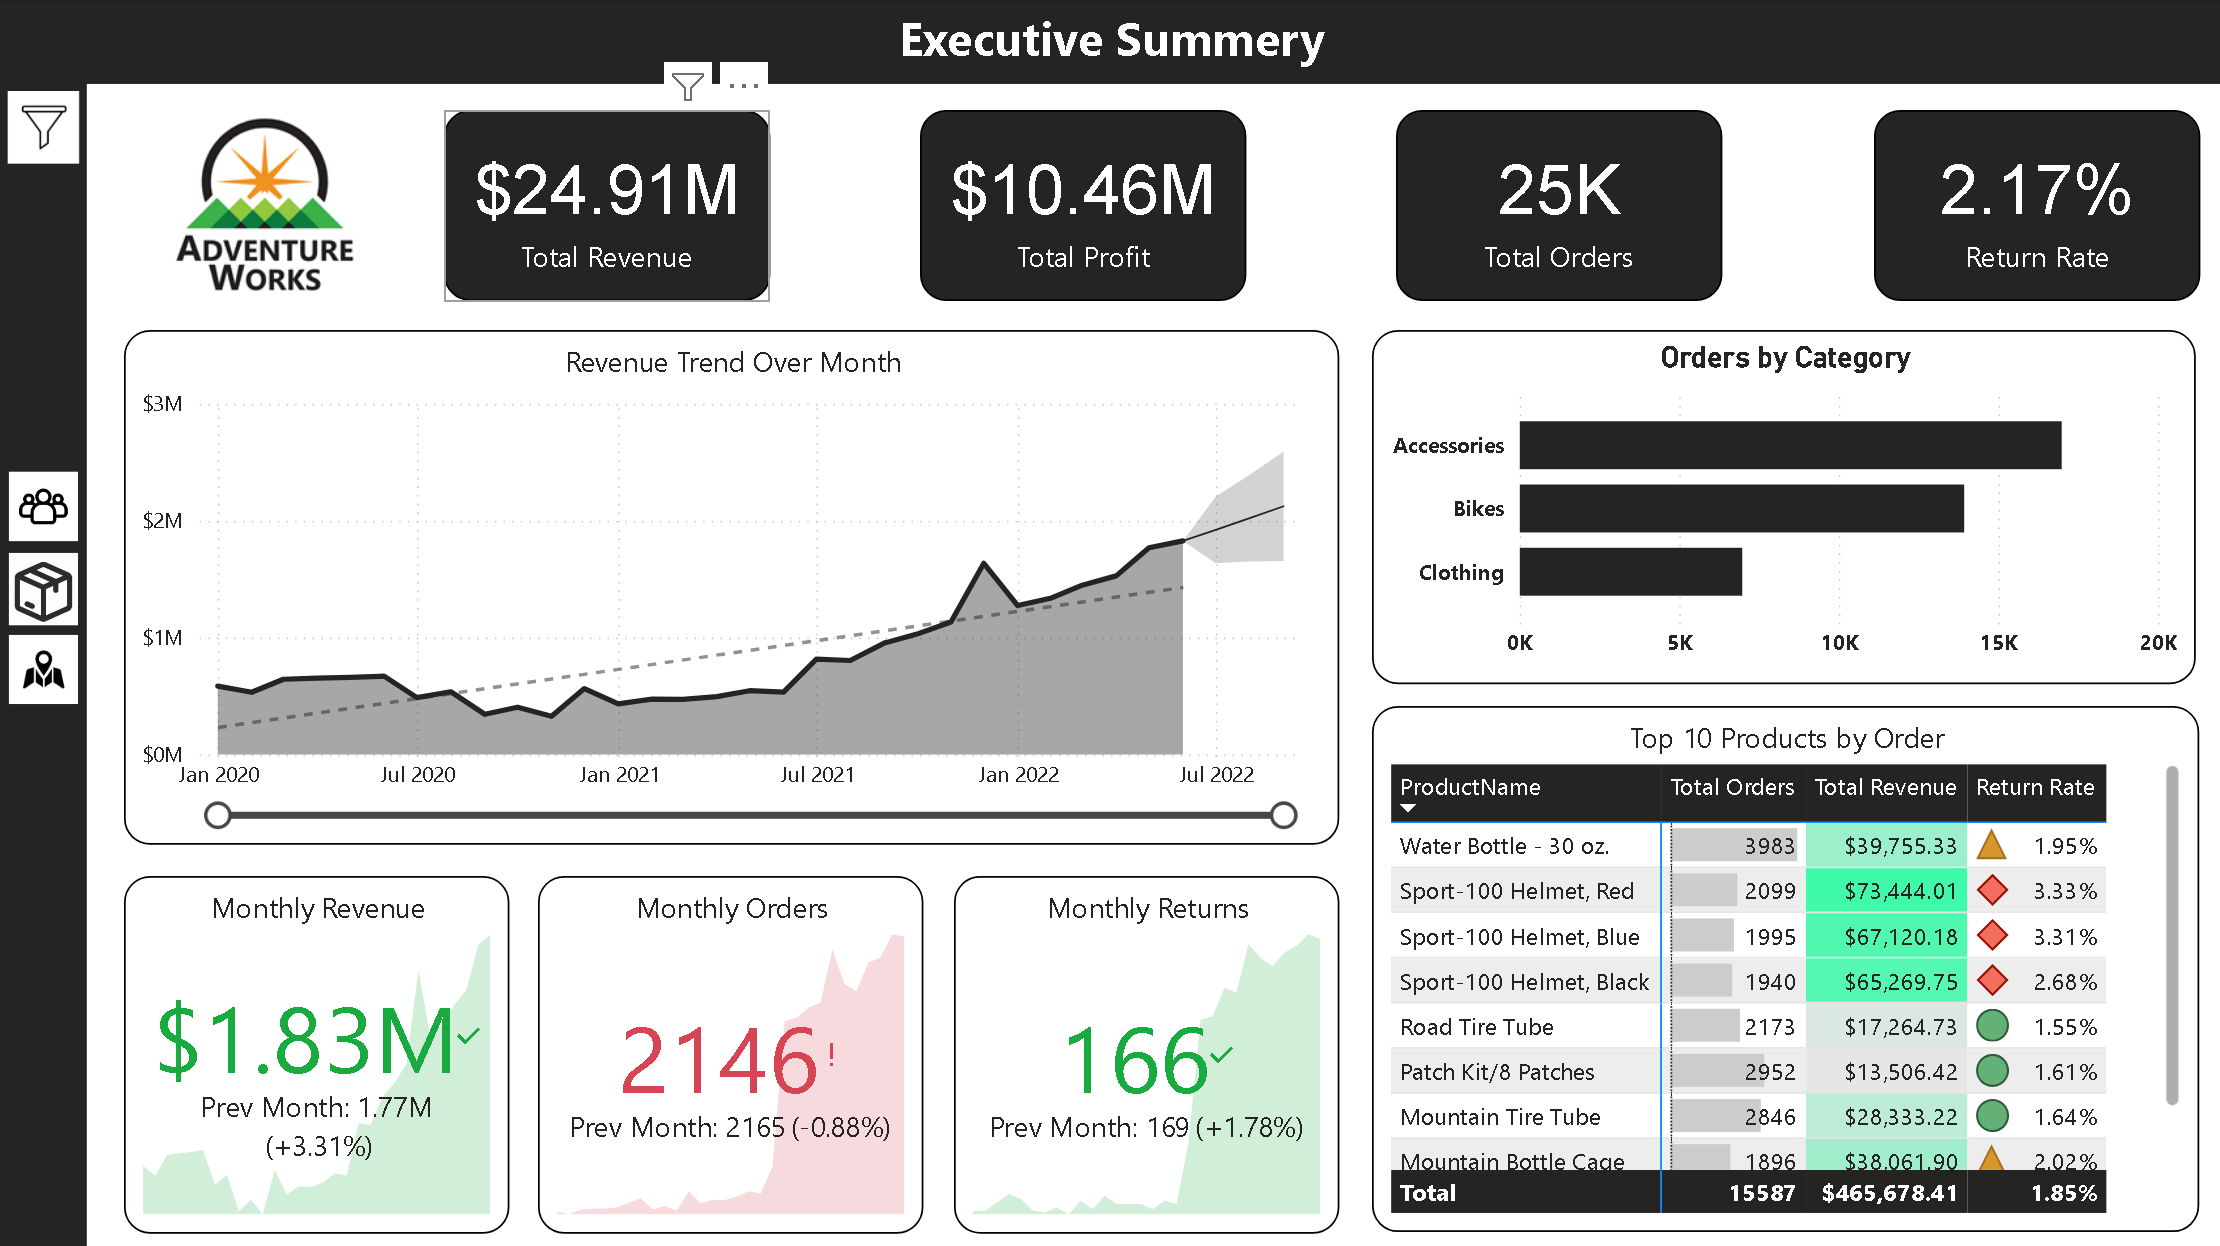

The page's visual inventory and layout, read from the dashboard file:
{"tool":"powerbi","page":{"name":"Executive Summery","canvas":[1280,720],"ordinal":0},"visuals":[{"type":"textbox","box":[0,0,1281,49.5],"z":0},{"type":"shape","box":[0,0,50.2,719.4],"z":1000},{"type":"image","box":[90.7,56.7,123.1,124.8],"z":2000},{"type":"card","fields":{"Values":["measure table.Total Revenue"]},"box":[255.2,64.8,187.9,110.2],"z":3000},{"type":"card","fields":{"Values":["measure table.Total Profit"]},"box":[529.8,64.8,187.9,110.2],"z":4000},{"type":"card","fields":{"Values":["measure table.Total Orders"]},"box":[804.5,64.8,187.9,110.2],"z":5000},{"type":"card","fields":{"Values":["measure table.Return Rate"]},"box":[1079.1,64.8,187.9,110.2],"z":6000},{"type":"clusteredBarChart","title":"Orders by Category","fields":{"Category":["Product Categories Lookup.CategoryName"],"Y":["measure table.Total Orders"]},"box":[790.7,191.2,474.7,204.2],"z":7000},{"type":"lineChart","title":"Revenue Trend Over Month","fields":{"Category":["Calendar Lookup.Start of Month.Variation.Date Hierarchy.Year","Calendar Lookup.Start of Month.Variation.Date Hierarchy.Month"],"Y":["measure table.Total Revenue"]},"box":[71.3,191.2,699.9,296.5],"z":8000},{"type":"pivotTable","title":"Top 10 Products by Order","fields":{"Rows":["Product Lookup.ProductName"],"Values":["measure table.Total Orders","measure table.Total Revenue","measure table.Return Rate"]},"box":[790.7,408.3,476.4,303],"z":9000},{"type":"kpi","title":"Monthly Revenue","fields":{"Goal":["measure table.Previous Month revenue"],"Indicator":["measure table.Total Revenue"],"TrendLine":["Calendar Lookup.Start of Month"]},"box":[71.3,505.5,222,205.8],"z":10000},{"type":"kpi","title":"Monthly Orders","fields":{"Goal":["measure table.Previous Month Orders"],"Indicator":["measure table.Total Orders"],"TrendLine":["Calendar Lookup.Start of Month"]},"box":[310.3,505.5,222,205.8],"z":11000},{"type":"kpi","title":"Monthly Returns","fields":{"Goal":["measure table.Previous Month Returns"],"Indicator":["measure table.Total Returned"],"TrendLine":["Calendar Lookup.Start of Month"]},"box":[549.3,505.5,222,205.8],"z":12000},{"type":"image","box":[0,260.9,50,65],"z":13000},{"type":"image","box":[0,314,50,52],"z":14000},{"type":"image","box":[0,361.2,50,50],"z":15000},{"type":"actionButton","box":[0,49.4,50,50],"z":16000}]}

Visuals, with their boxes on the page's 1280x720 design canvas (x1, y1, x2, y2). These are canvas units, not pixel positions in the 2220x1246 screenshot, which may show the page scaled, cropped or inside an application window:
textbox: crop(0, 0, 1281, 50)
shape: crop(0, 0, 50, 719)
image: crop(91, 57, 214, 182)
card - measure table.Total Revenue: crop(255, 65, 443, 175)
card - measure table.Total Profit: crop(530, 65, 718, 175)
card - measure table.Total Orders: crop(804, 65, 992, 175)
card - measure table.Return Rate: crop(1079, 65, 1267, 175)
"Orders by Category" clusteredBarChart: crop(791, 191, 1265, 395)
"Revenue Trend Over Month" lineChart: crop(71, 191, 771, 488)
"Top 10 Products by Order" pivotTable: crop(791, 408, 1267, 711)
"Monthly Revenue" kpi: crop(71, 506, 293, 711)
"Monthly Orders" kpi: crop(310, 506, 532, 711)
"Monthly Returns" kpi: crop(549, 506, 771, 711)
image: crop(0, 261, 50, 326)
image: crop(0, 314, 50, 366)
image: crop(0, 361, 50, 411)
actionButton: crop(0, 49, 50, 99)
